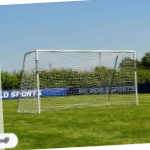goals: (15, 46, 141, 113)
